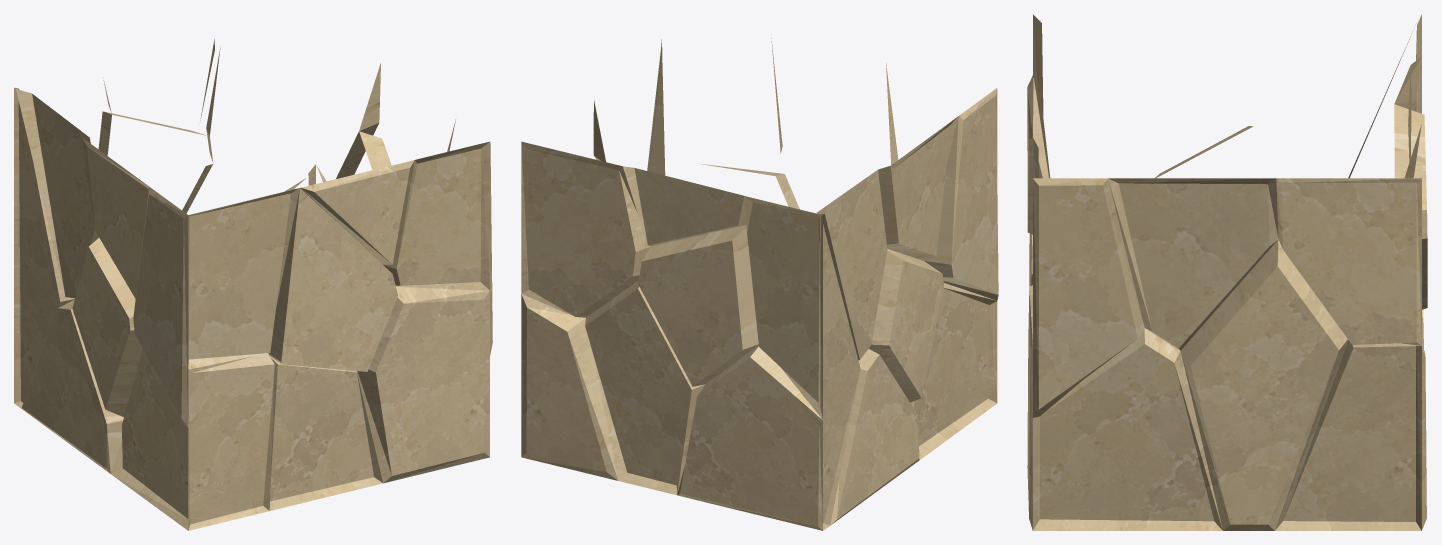
File: ground_rock_01.gltf
The picture shows the model from 3 angles, left to right: view 1: azimuth 30°, elevation 25°; view 2: azimuth 150°, elevation 25°; view 3: azimuth 270°, elevation 25°; orthographic projection. The views are drawn at different scales.
Parts seen in each view (by area): view 1: ground_rock_01; view 2: ground_rock_01; view 3: ground_rock_01.
Part boxes in pixels (x1,y1,x2,y2): ground_rock_01: (14,39,492,530); ground_rock_01: (521,34,998,530); ground_rock_01: (1027,14,1427,530).
Bounding box in the file's own units: 1.03 × 1 × 1.03.
Materials: 28 (28 with a texture image).
